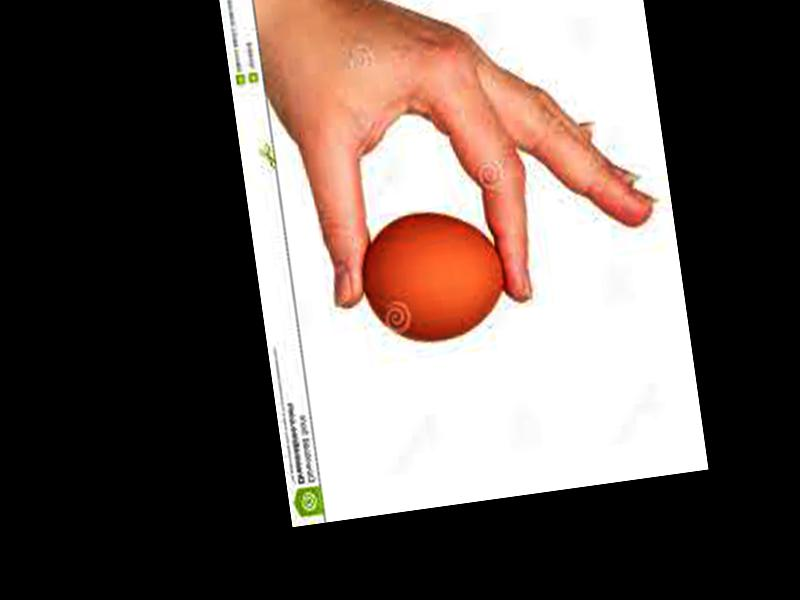Eggs: (353, 200, 512, 351)
